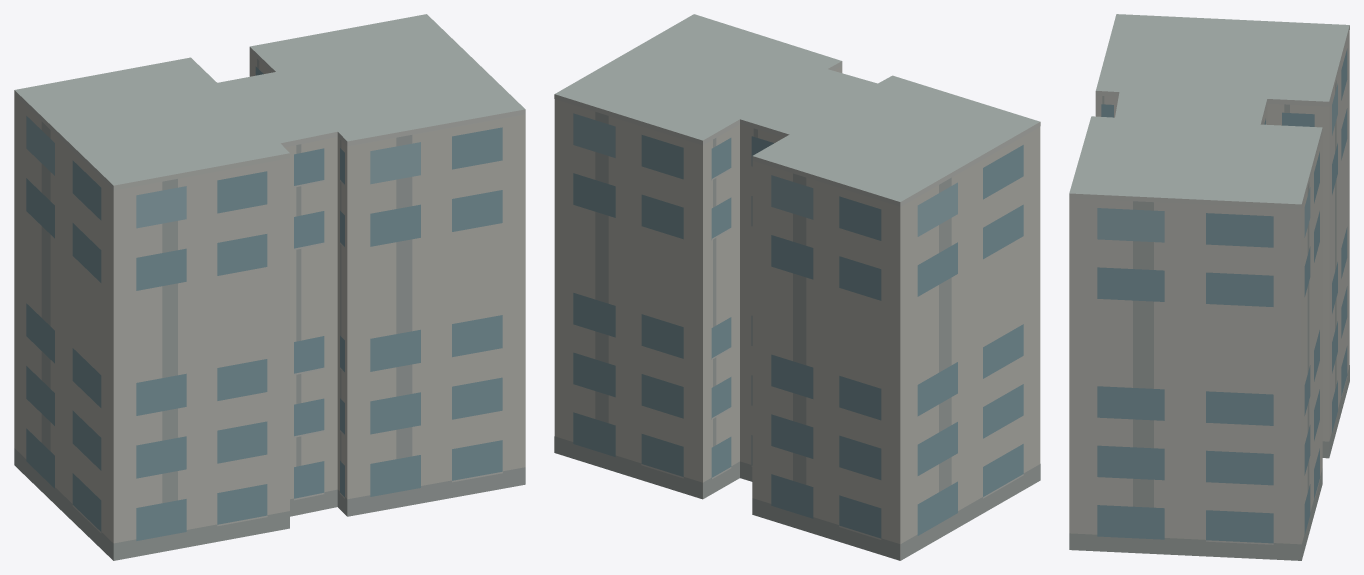
The model's file is survey-upis-32565893.glb.
3 views of the same model, side by side, from view 1: azimuth 30°, elevation 25°; view 2: azimuth 150°, elevation 25°; view 3: azimuth 270°, elevation 25° (orthographic). The views are drawn at different scales.
Visible parts, largest first — view 1: survey-upis-32565893.tmp; view 2: survey-upis-32565893.tmp; view 3: survey-upis-32565893.tmp.
Part boxes in pixels (x1=…): survey-upis-32565893.tmp: x1=14, y1=14, x2=525, y2=560; survey-upis-32565893.tmp: x1=554, y1=14, x2=1040, y2=560; survey-upis-32565893.tmp: x1=1069, y1=14, x2=1349, y2=560.
Size of the model in its own units: 20.97 by 18.3 by 13.06.
